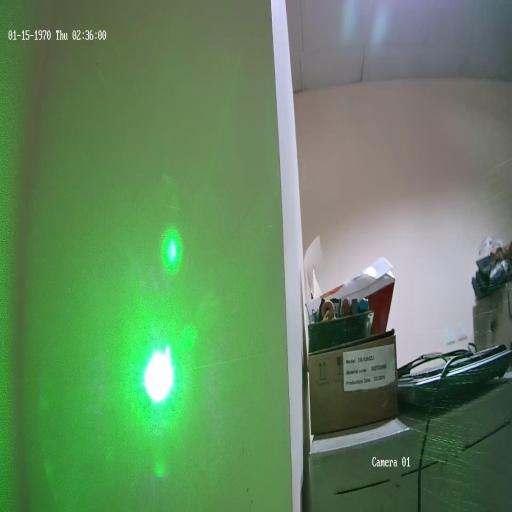laser: (135, 326, 180, 414)
